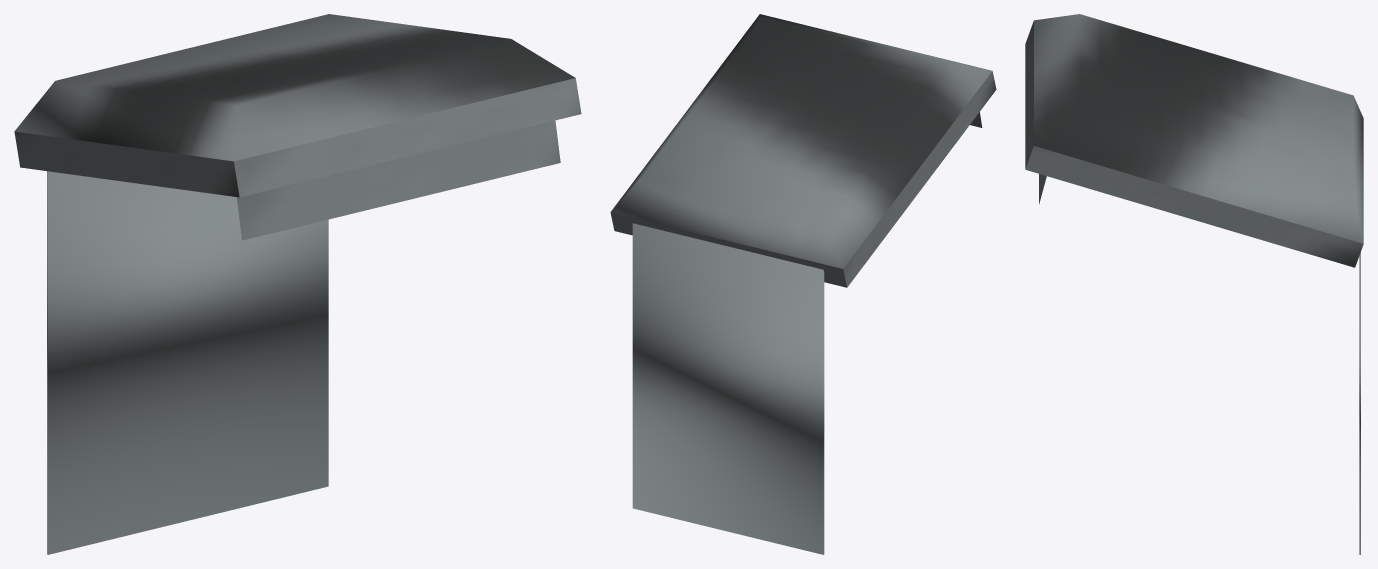
File: inca_f_h.dae
3 views of the same model, side by side, from view 1: azimuth 30°, elevation 25°; view 2: azimuth 150°, elevation 25°; view 3: azimuth 270°, elevation 25° (orthographic). The views are drawn at different scales.
Visible parts, largest first — view 1: acclas_h; view 2: acclas_h; view 3: acclas_h.
Part boxes in pixels (<box>): acclas_h: <box>14,14,581,554</box>; acclas_h: <box>610,14,996,554</box>; acclas_h: <box>1025,14,1363,554</box>.
Bounding box in the file's own units: 0.5523 × 0.63 × 0.9021.
